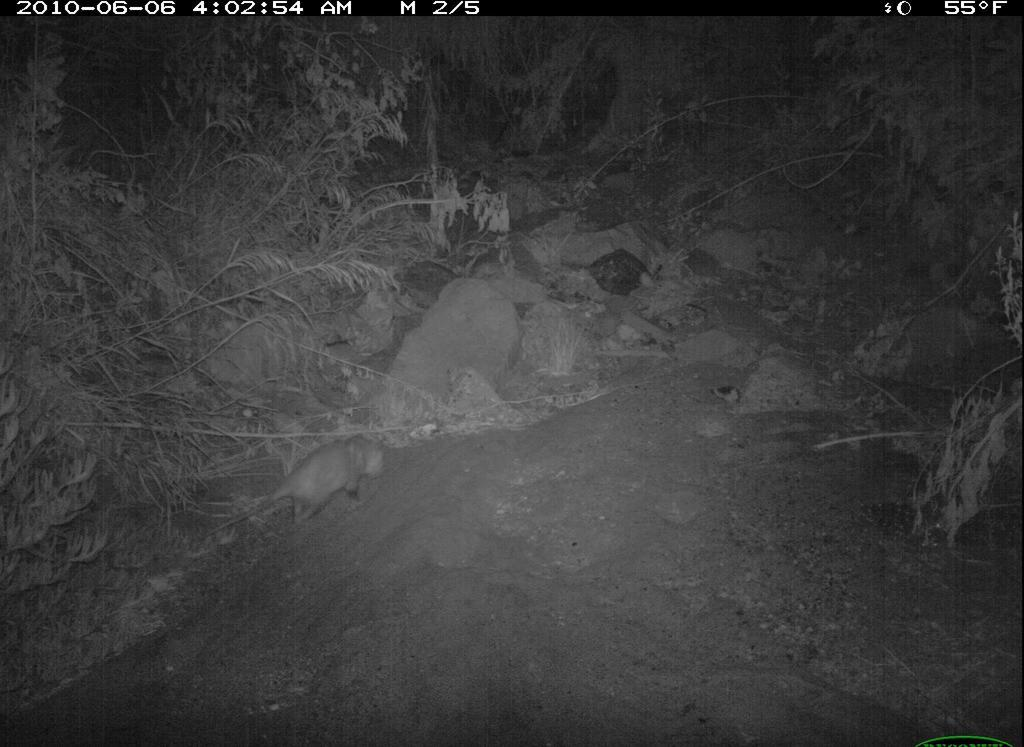opossum: (204, 432, 396, 553)
